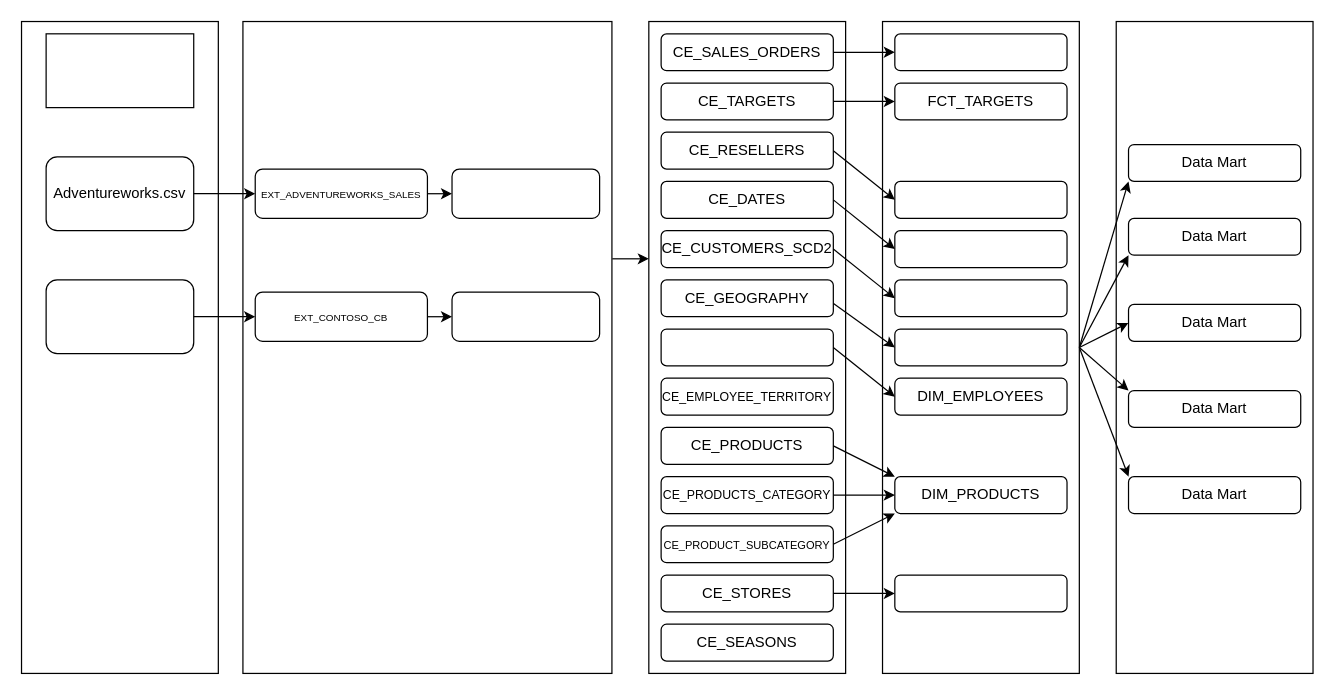
This 1335x695 diagram has some shape labels left out. The centre of each missing label's shape, as x and y in pixels:
CE_EMPLOYEES: pixel 746 347
contoso_cb.csv: pixel 119 316
Data Sources: pixel 119 70
DIM_CUSTOMERS: pixel 980 298
DIM_DATES: pixel 980 248
DIM_GEOGRAPHY: pixel 980 347
DIM_RESELLERS: pixel 980 199
DIM_STORES: pixel 980 593
FCT_SALES_ORDERS: pixel 980 52
SRC_ONLINE_SALES: pixel 525 316
SRC_SALES: pixel 525 193
